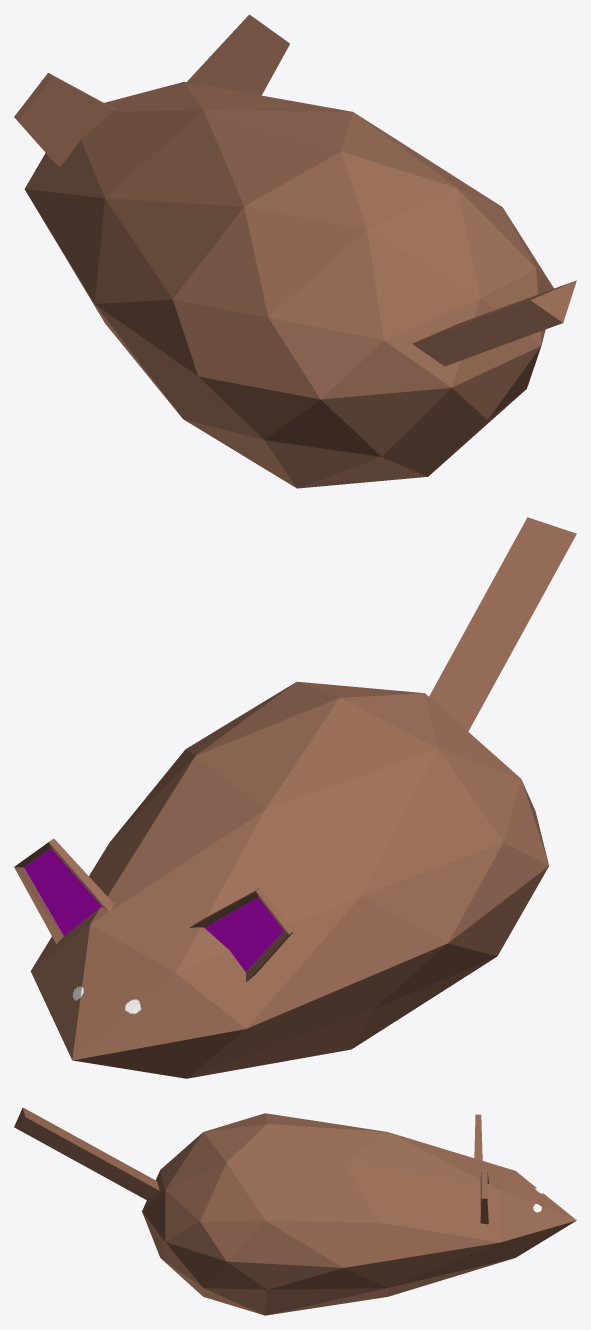
The model's file is rat.obj.
3 views of the same model, one above another, from view 1: azimuth 30°, elevation 25°; view 2: azimuth 150°, elevation 25°; view 3: azimuth 270°, elevation 25° (orthographic). The views are drawn at different scales.
Visible parts, largest first — view 1: ICO球; view 2: ICO球; view 3: ICO球.
Boxes of the visible parts, x1=… form: ICO球: x1=14, y1=14, x2=576, y2=488; ICO球: x1=14, y1=517, x2=576, y2=1078; ICO球: x1=14, y1=1107, x2=576, y2=1315.
Size of the model in its own units: 1.9 by 1.75 by 4.59.
Materials: 1 (1 with a texture image).
